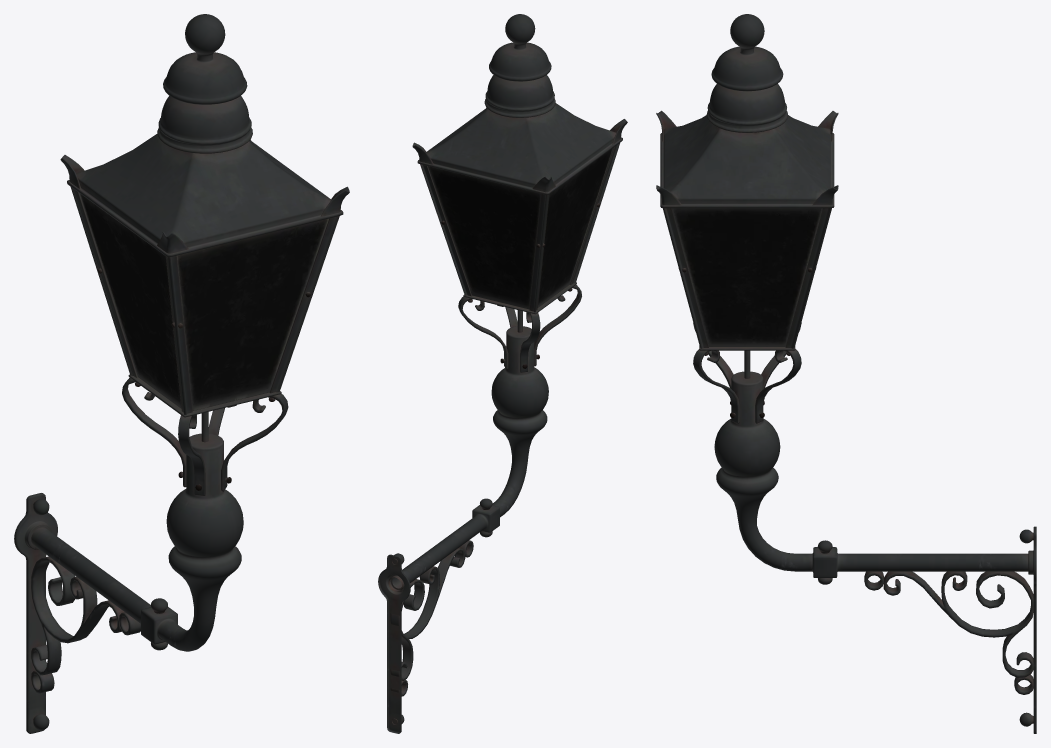
Rendered from street_lamp_02.glb.
3 views of the same model, side by side, from view 1: azimuth 30°, elevation 25°; view 2: azimuth 150°, elevation 25°; view 3: azimuth 270°, elevation 25° (orthographic). The views are drawn at different scales.
Visible parts, largest first — view 1: street_lamp_02; view 2: street_lamp_02; view 3: street_lamp_02.
Boxes of the visible parts, x1=… form: street_lamp_02: x1=14, y1=14, x2=349, y2=733; street_lamp_02: x1=378, y1=14, x2=627, y2=733; street_lamp_02: x1=656, y1=14, x2=1036, y2=733.
Size of the model in its own units: 0.3865 by 1.68 by 0.8067.
Materials: 2 (2 with a texture image).
